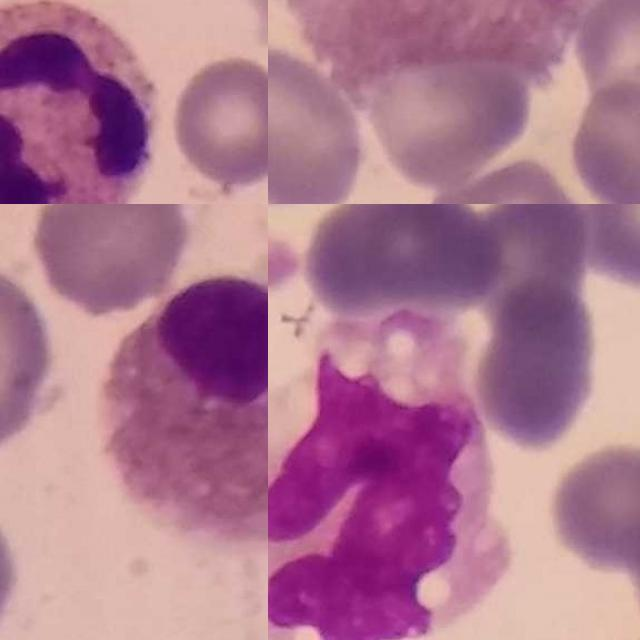Eosinophil: (99, 275, 268, 550), (268, 0, 593, 88)
Monocyte: (268, 318, 509, 640)
Neutrophil: (0, 0, 163, 204)
